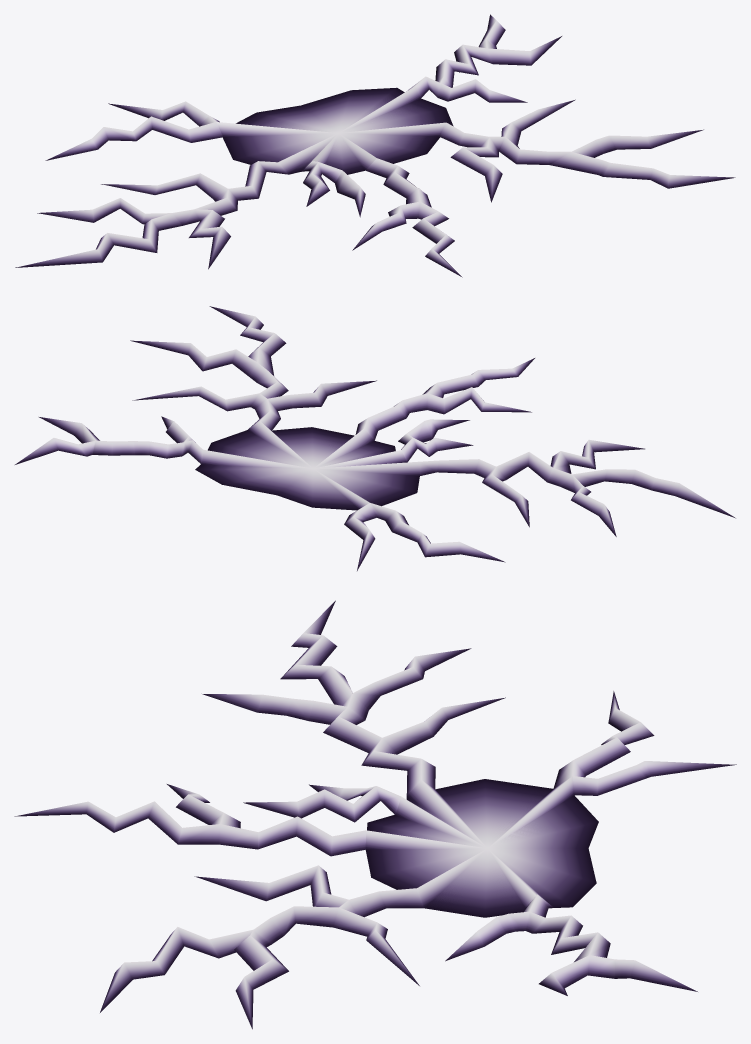
File: copenhagen_lightning.glb
3 renders of one model, top to bottom at view 1: azimuth 30°, elevation 25°; view 2: azimuth 150°, elevation 25°; view 3: azimuth 270°, elevation 25°, orthographic. The views are drawn at different scales.
Parts seen in each view (by area): view 1: Copenhagen_lightning_4_mesh, Copenhagen_lightning_5_mesh, Copenhagen_lightning_3_mesh, Copenhagen_lightning_1_mesh, Copenhagen_lightning_2_mesh, Copenhagen_lightning_6_mesh; view 2: Copenhagen_lightning_2_mesh, Copenhagen_lightning_4_mesh, Copenhagen_lightning_3_mesh, Copenhagen_lightning_5_mesh, Copenhagen_lightning_1_mesh, Copenhagen_lightning_6_mesh; view 3: Copenhagen_lightning_4_mesh, Copenhagen_lightning_2_mesh, Copenhagen_lightning_3_mesh, Copenhagen_lightning_5_mesh, Copenhagen_lightning_1_mesh, Copenhagen_lightning_6_mesh.
Boxes of the visible parts, x1,y1,x2,y2 form: Copenhagen_lightning_4_mesh: (142,44,478,252); Copenhagen_lightning_5_mesh: (15,14,561,277); Copenhagen_lightning_3_mesh: (45,99,735,217); Copenhagen_lightning_1_mesh: (223,87,451,174); Copenhagen_lightning_2_mesh: (133,88,609,182); Copenhagen_lightning_6_mesh: (222,88,449,171); Copenhagen_lightning_2_mesh: (197,333,421,542); Copenhagen_lightning_4_mesh: (92,374,634,505); Copenhagen_lightning_3_mesh: (130,306,505,570); Copenhagen_lightning_5_mesh: (15,358,735,536); Copenhagen_lightning_1_mesh: (195,421,411,510); Copenhagen_lightning_6_mesh: (196,427,419,506); Copenhagen_lightning_4_mesh: (148,664,610,957); Copenhagen_lightning_2_mesh: (178,736,630,958); Copenhagen_lightning_3_mesh: (100,691,736,1029); Copenhagen_lightning_5_mesh: (14,600,697,995); Copenhagen_lightning_1_mesh: (367,776,587,917); Copenhagen_lightning_6_mesh: (366,779,570,917).
Size of the model in its own units: 26.5 by 0.9694 by 18.82.
Materials: 1 (1 with a texture image).
